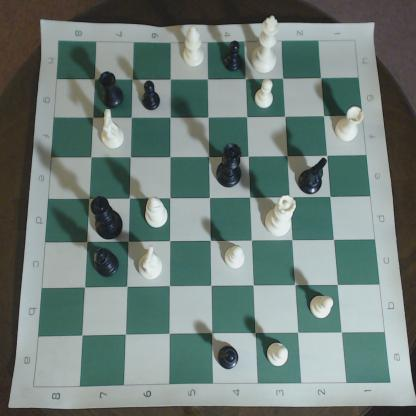black-bishop: (93, 247, 123, 282)
black-king: (90, 191, 127, 244)
black-knight: (302, 156, 331, 197)
black-pawn: (139, 77, 164, 112), (225, 40, 245, 76), (218, 342, 241, 373)
black-queen: (216, 144, 247, 192)
black-rook: (94, 69, 127, 111)
white-bishop: (171, 24, 209, 74), (143, 192, 174, 234)
white-king: (250, 16, 282, 76)
white-knight: (100, 110, 128, 151), (139, 247, 165, 282)
white-pawn: (264, 329, 294, 374), (252, 81, 284, 119), (308, 292, 342, 322), (224, 243, 249, 275)
white-queen: (264, 192, 298, 241)
white-rook: (333, 108, 367, 154)
